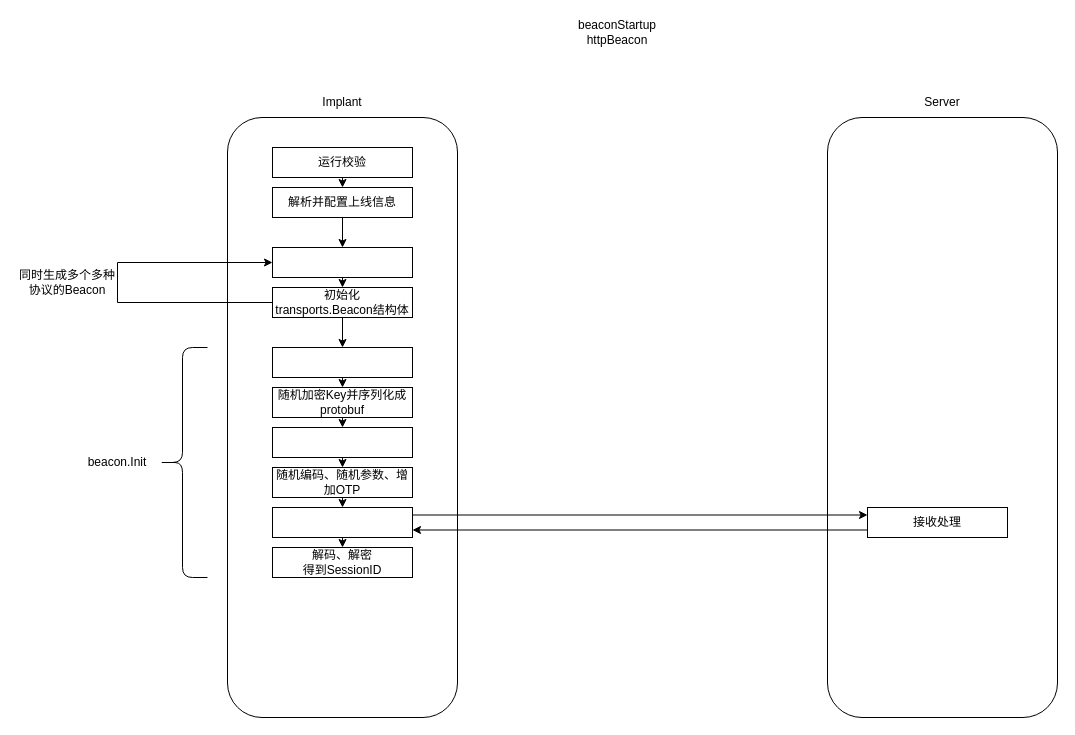
Some shapes in this 1075 by 735 pixel diagram are drawn without their labels. Here are the shapes that lost their labels. From the top down, the box of each, then its label:
(272, 246, 412, 278): 选择协议
(272, 346, 412, 378): 初始化SliverHTTPClient结构
(272, 426, 412, 458): 公钥ECC加密
(272, 506, 412, 538): 发送数据包
